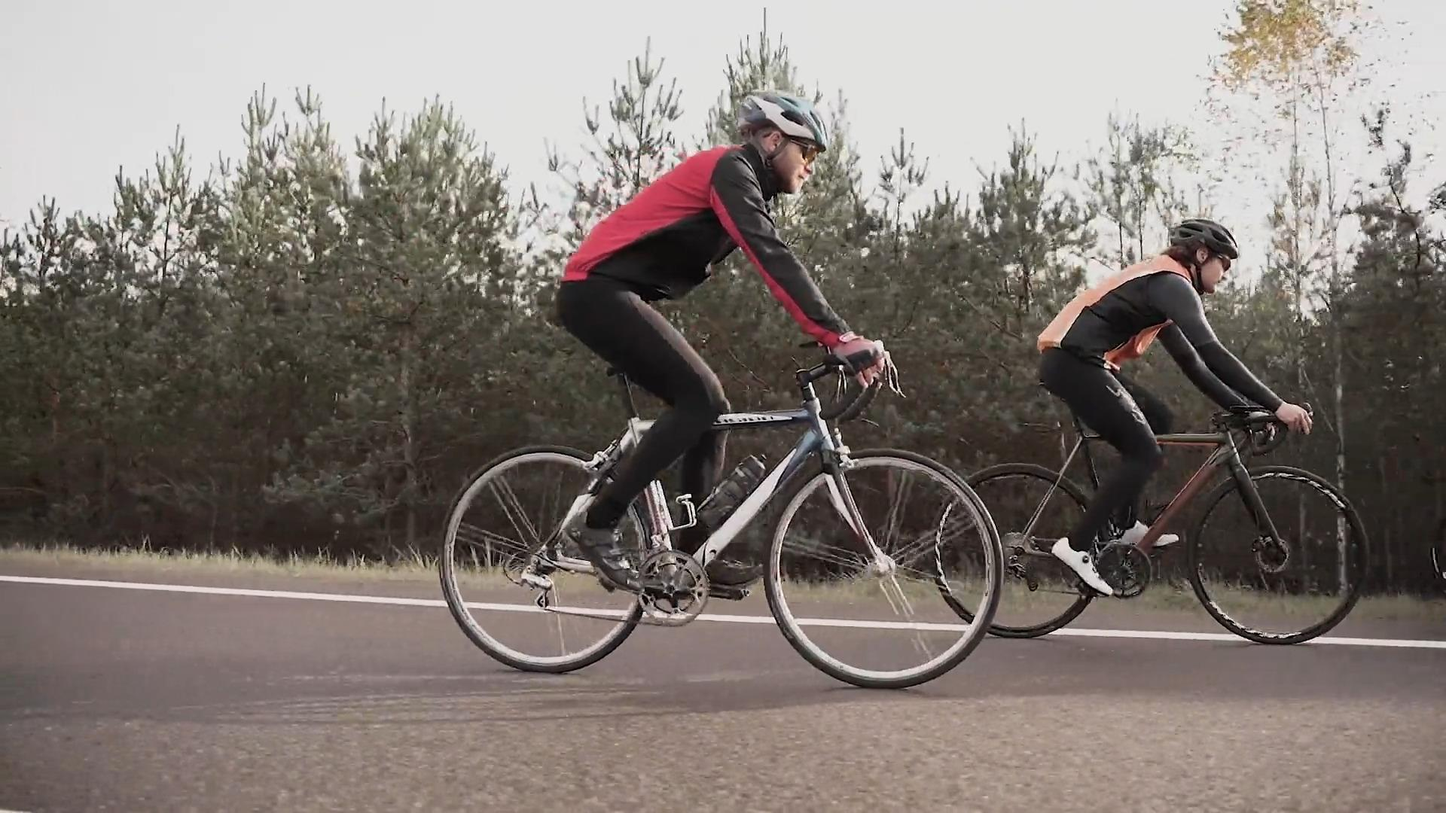bicyclist: (436, 88, 1002, 689), (929, 216, 1370, 646)
helmet: (737, 89, 828, 195), (1167, 217, 1239, 296)
